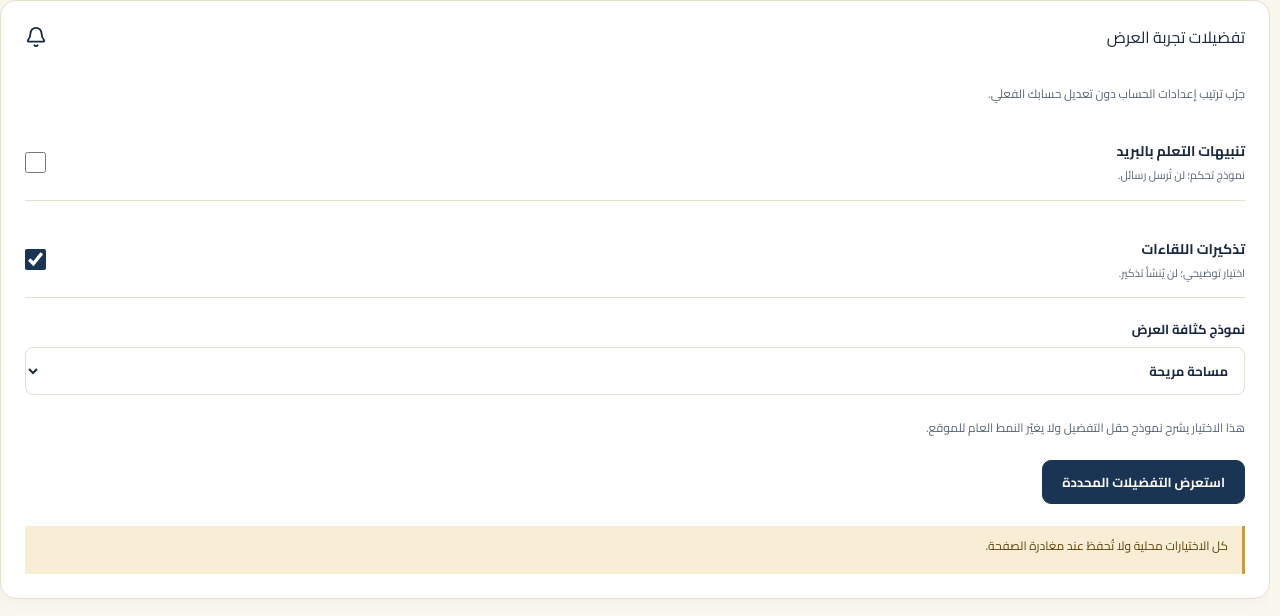
Test case: local learner interactions › does not imply preview preferences were saved
Click the checkbox labelled "تنبيهات التعلم بالبريد نموذج تحكم؛ لن تُرسل رسائل.".
click(36, 162)  # box top-left (25, 152), bottom-right (46, 173)
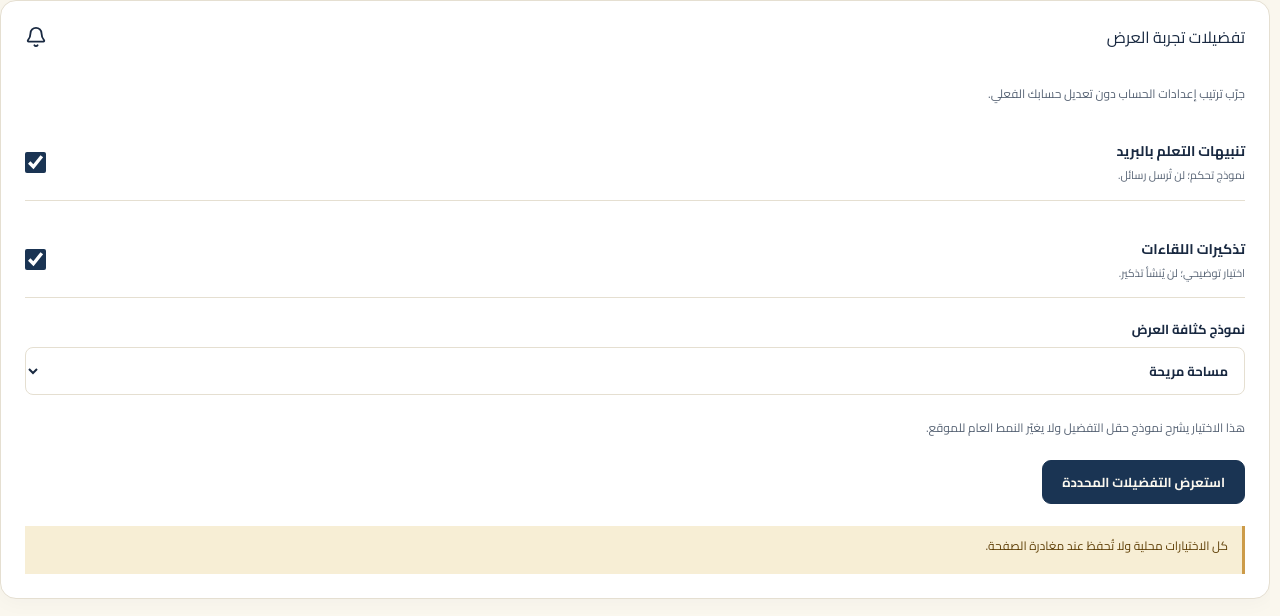
Click the button "استعرض التفضيلات المحددة".
click(1144, 482)  # box top-left (1042, 460), bottom-right (1245, 504)
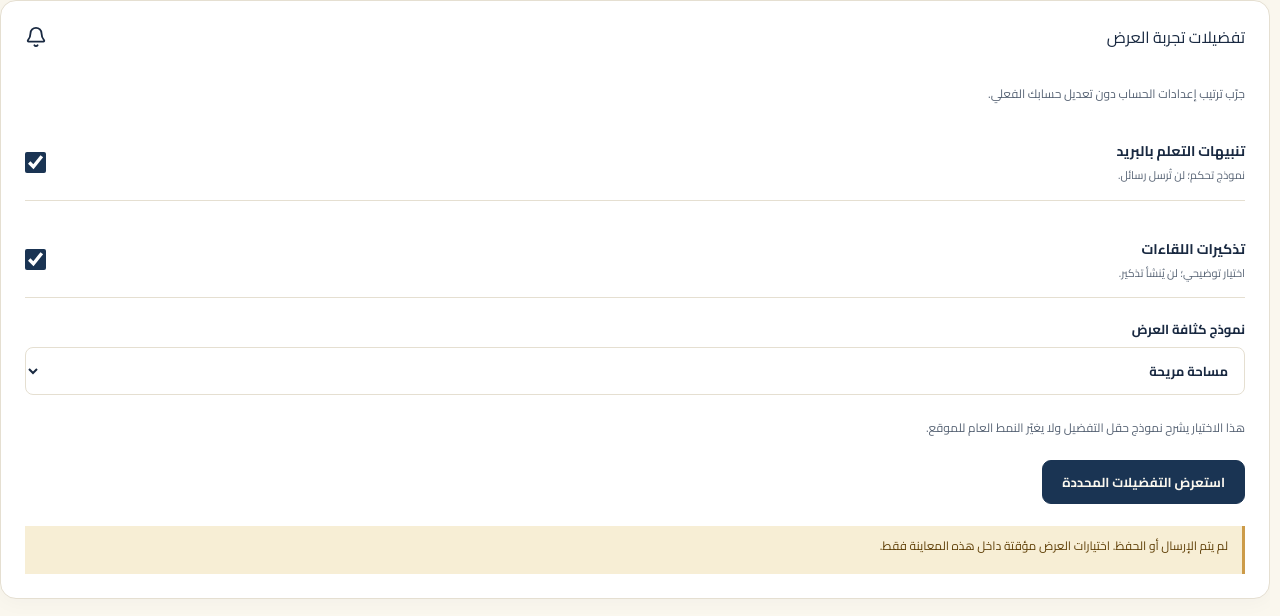
Check: the message shows "لم يتم الإرسال أو الحفظ", box top-left (880, 534), bottom-right (1228, 557)
